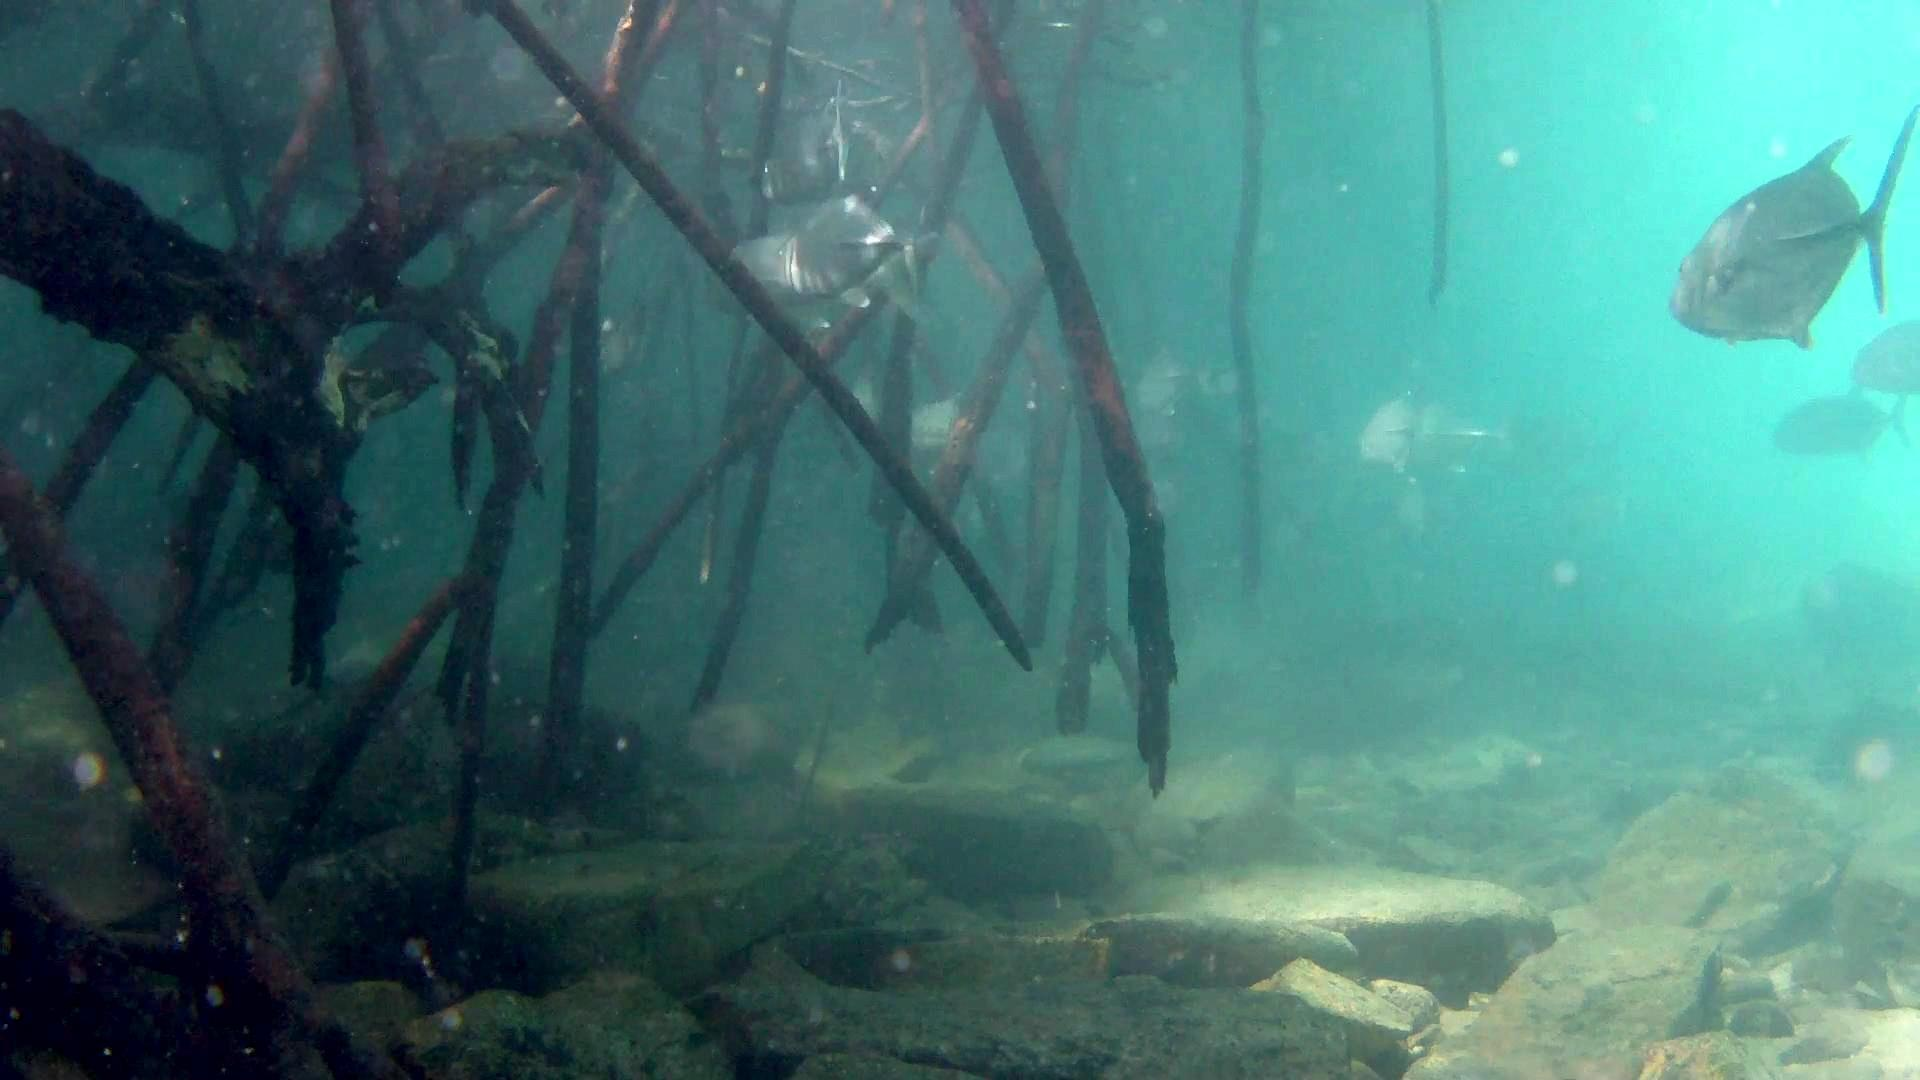caranx: (1659, 116, 1920, 361), (765, 158, 961, 313)
